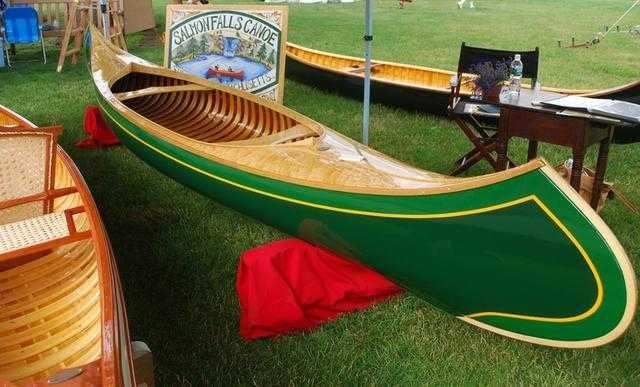kayak: (85, 7, 634, 352), (1, 104, 155, 382)
